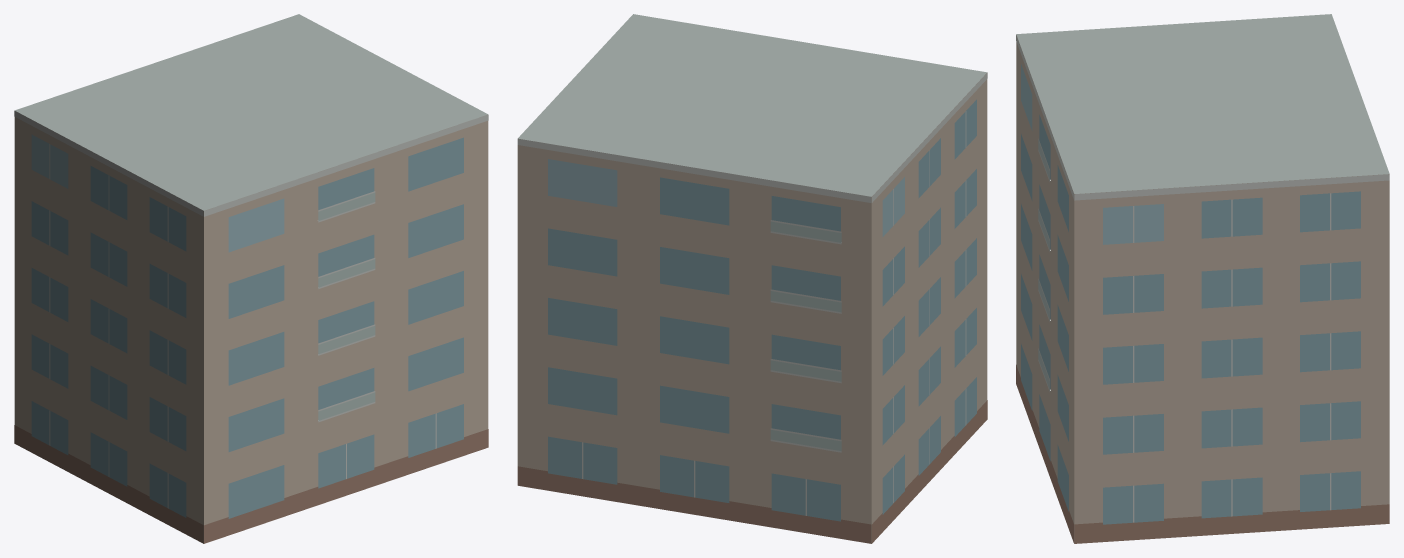
File: survey-upis-32530521.glb
3 views of the same model, side by side, from view 1: azimuth 30°, elevation 25°; view 2: azimuth 150°, elevation 25°; view 3: azimuth 270°, elevation 25° (orthographic). The views are drawn at different scales.
Parts seen in each view (by area): view 1: survey-upis-32530521.tmp; view 2: survey-upis-32530521.tmp; view 3: survey-upis-32530521.tmp.
Boxes of the visible parts, <box> form: survey-upis-32530521.tmp: <box>14,14,488,543</box>; survey-upis-32530521.tmp: <box>517,14,987,543</box>; survey-upis-32530521.tmp: <box>1016,14,1389,543</box>.
Size of the model in its own units: 14.7 by 13.3 by 12.89.
